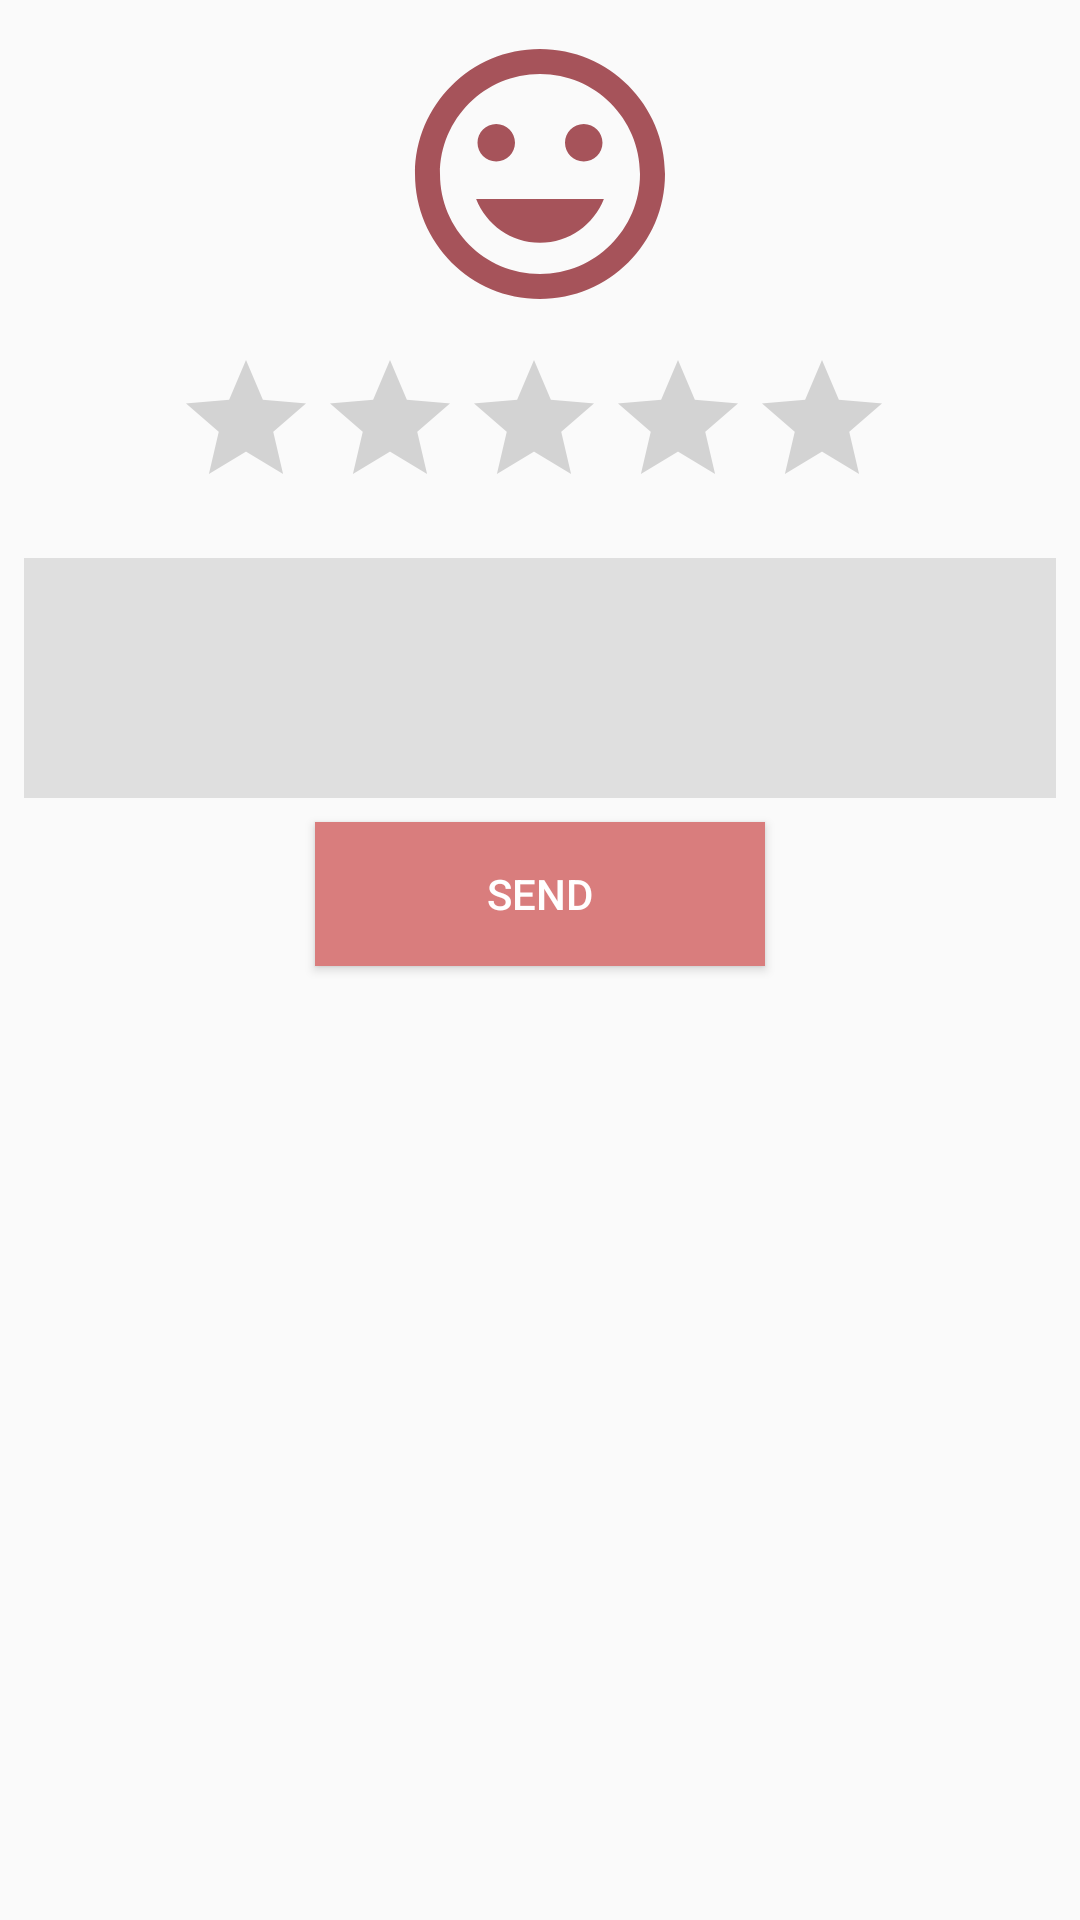

Icon bounding boxes for this 1080×1920 phone screenshot, format (x1, y1, x2, y2):
smile: (415, 49, 665, 299)
